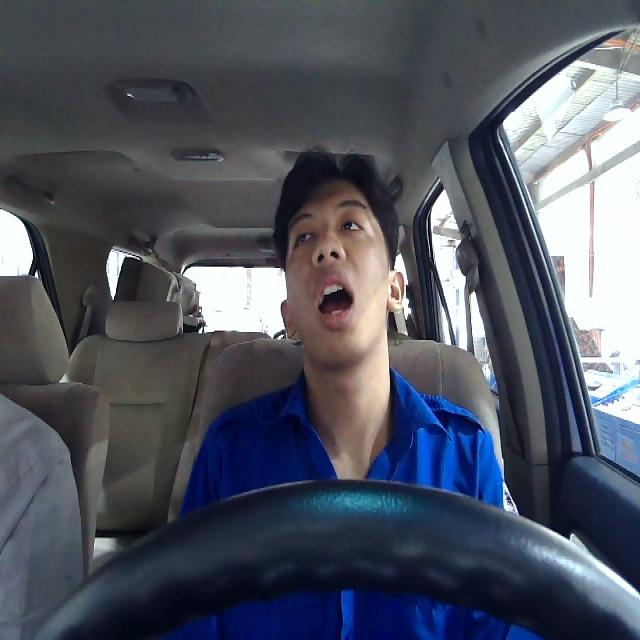yarning: (279, 178, 404, 366)
